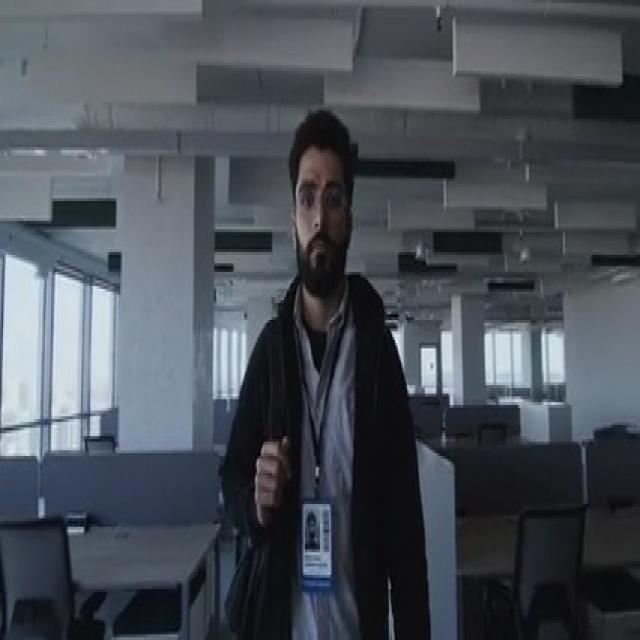Jacket_Wearer: (214, 269, 420, 640)
Person: (213, 94, 432, 640)
